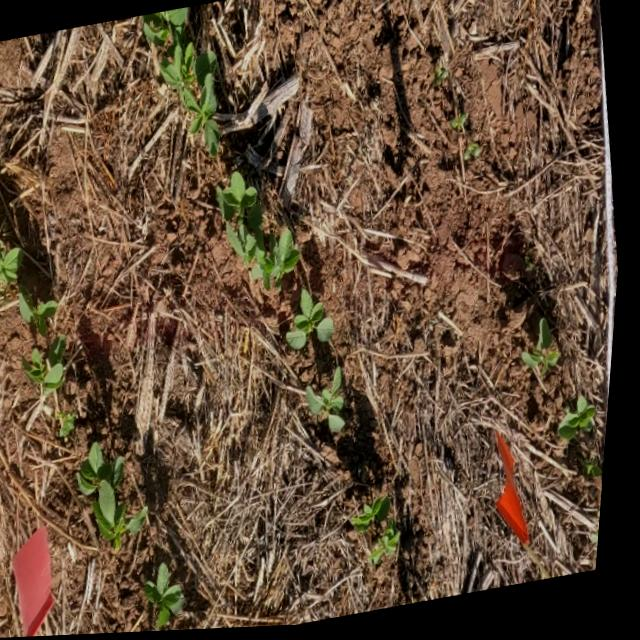soy_plant: (144, 9, 223, 156), (220, 174, 305, 293), (84, 445, 156, 550), (23, 287, 72, 402), (360, 502, 409, 568), (291, 292, 340, 352), (312, 371, 352, 436), (452, 101, 483, 184), (154, 566, 193, 628), (527, 323, 566, 381), (565, 400, 603, 446), (0, 241, 27, 297), (62, 411, 81, 438), (594, 468, 609, 481)
